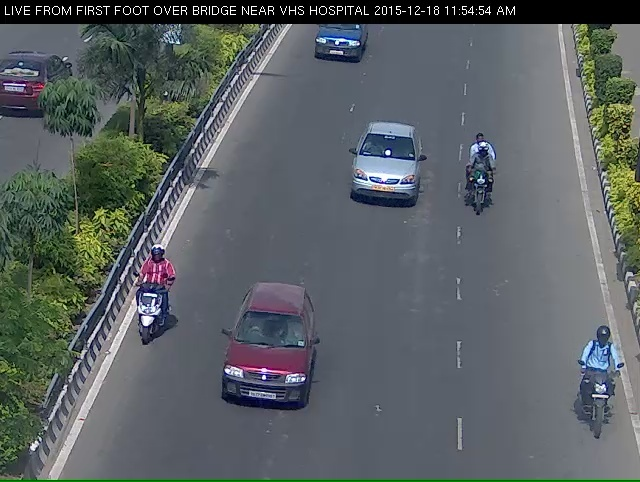Car: (206, 301, 312, 435), (344, 129, 425, 222), (302, 19, 369, 72)
Person: (559, 335, 625, 452), (108, 260, 168, 376), (458, 137, 495, 233)
